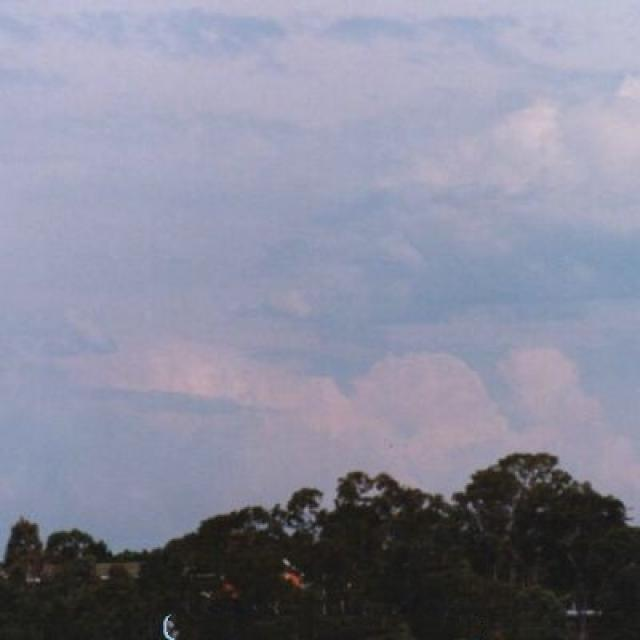Cs: (1, 126, 640, 448)
